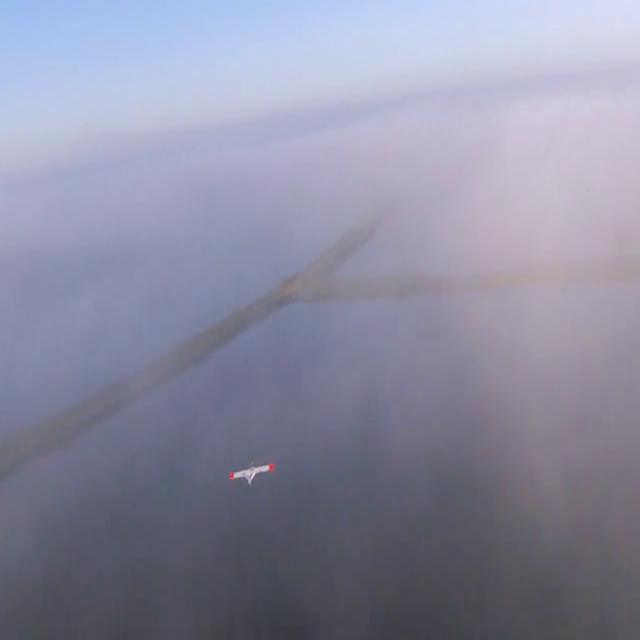iha: (228, 459, 276, 489)
